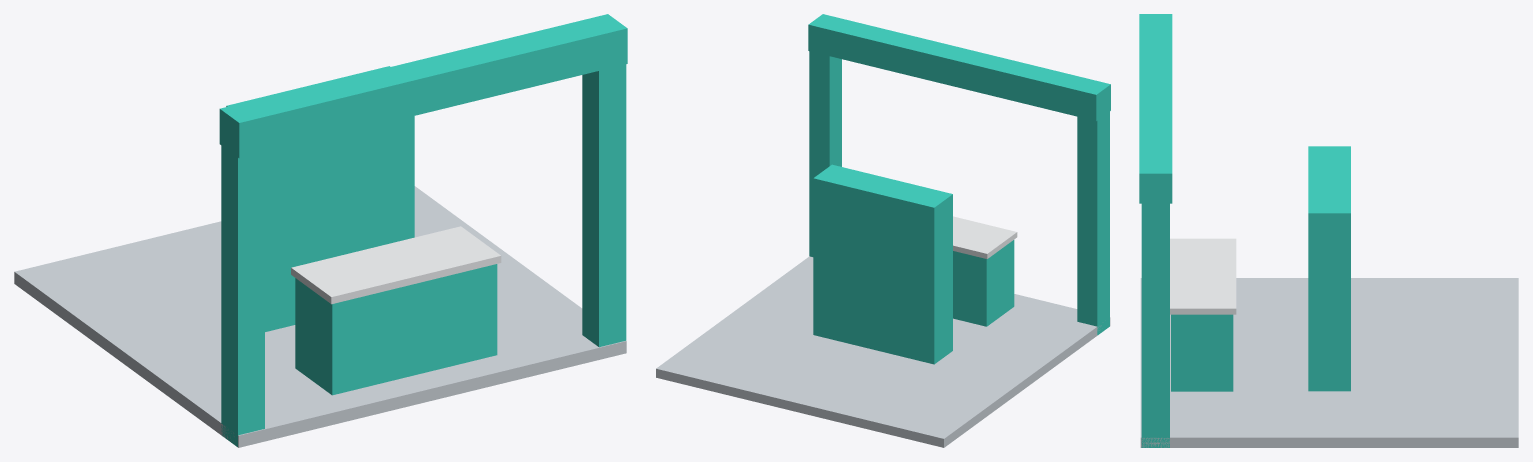
3 views of the same model, side by side, from view 1: azimuth 30°, elevation 25°; view 2: azimuth 150°, elevation 25°; view 3: azimuth 270°, elevation 25° (orthographic). The views are drawn at different scales.
Visible parts, largest first — view 1: Exhibition Booth Concept; view 2: Exhibition Booth Concept; view 3: Exhibition Booth Concept.
Boxes of the visible parts, box(x1,y1,x2,y2) form: Exhibition Booth Concept: box(14, 14, 627, 447); Exhibition Booth Concept: box(656, 14, 1110, 447); Exhibition Booth Concept: box(1139, 14, 1518, 447).
Size of the model in its own units: 4 by 3.2 by 4.02.
